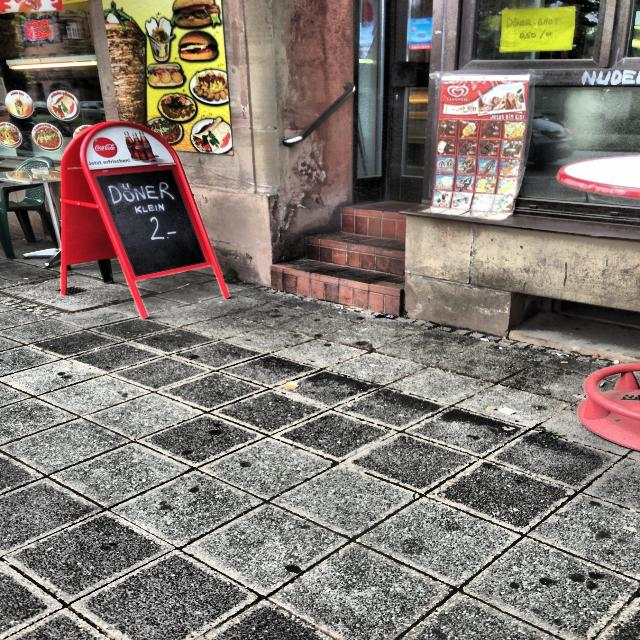escada: (267, 208, 406, 316)
